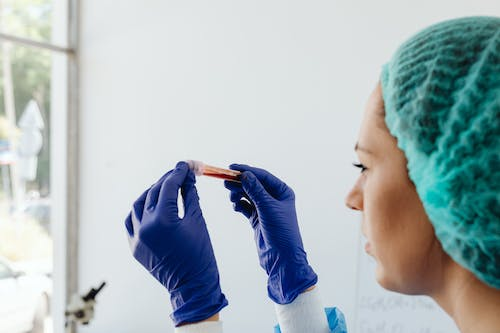blood: (202, 157, 244, 184)
